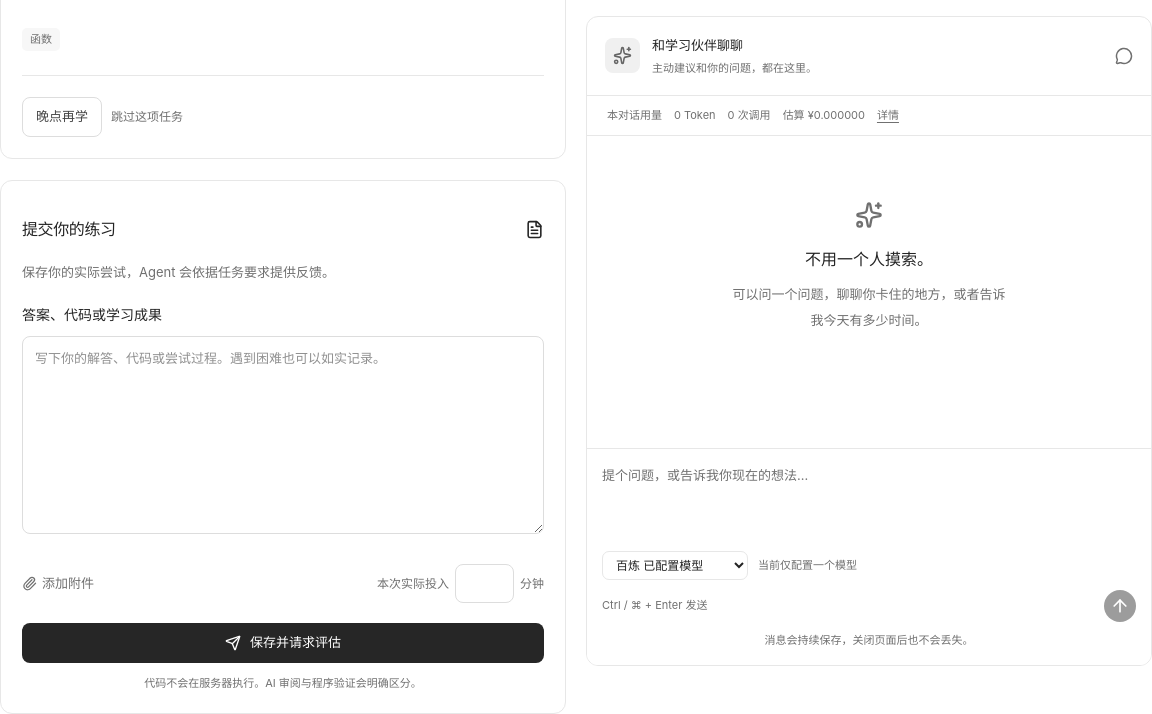
Scenario: learning space › keeps failed work and spent time, then reports saved rather than passed
(page scrolled)
Type "def add(a, b): return a + b" into the text box labelled "答案、代码或学习成果" at x=283, y=435, box top-left (22, 336), bottom-right (544, 534)
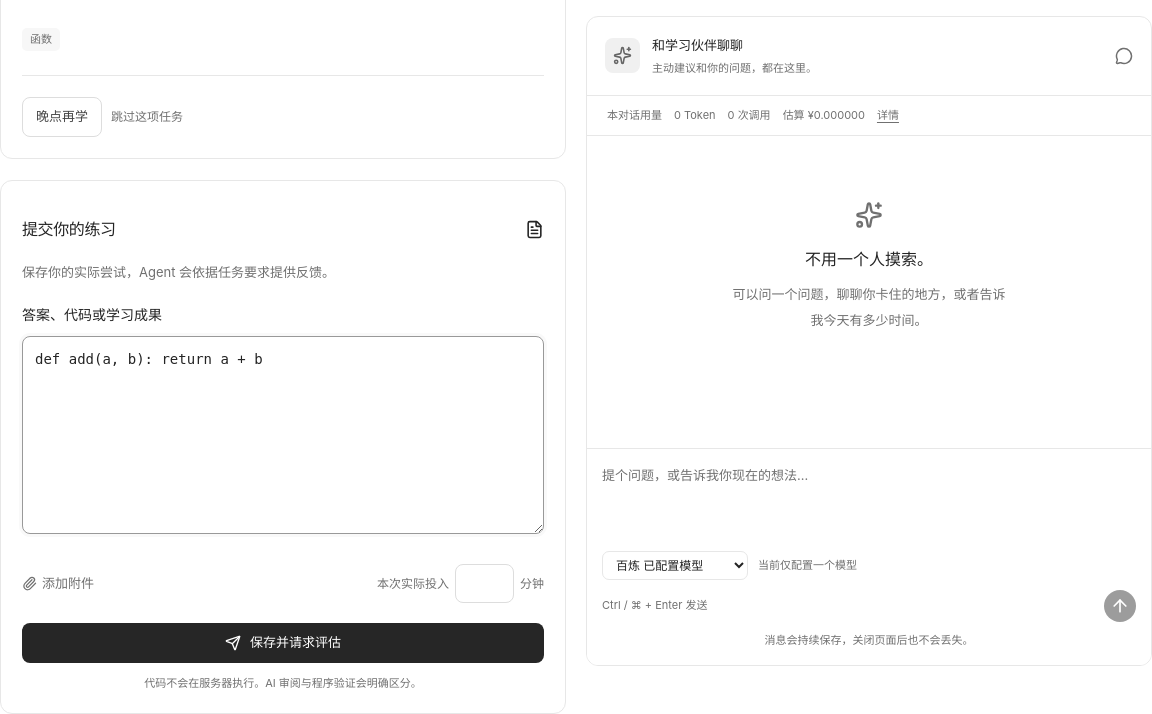
Type "12" into the number field labelled "本次实际投入 分钟" at x=484, y=583, box top-left (455, 564), bottom-right (514, 603)
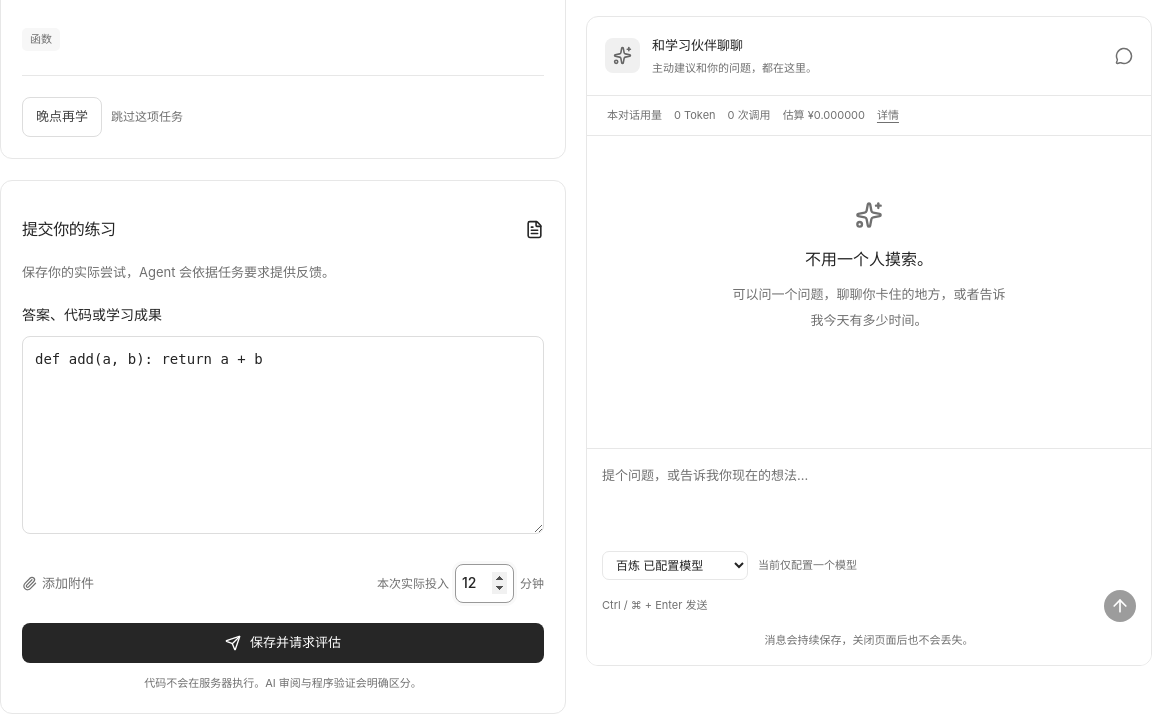
Click the button "保存并请求评估" at x=283, y=643, box top-left (22, 623), bottom-right (544, 663)
(page scrolled)
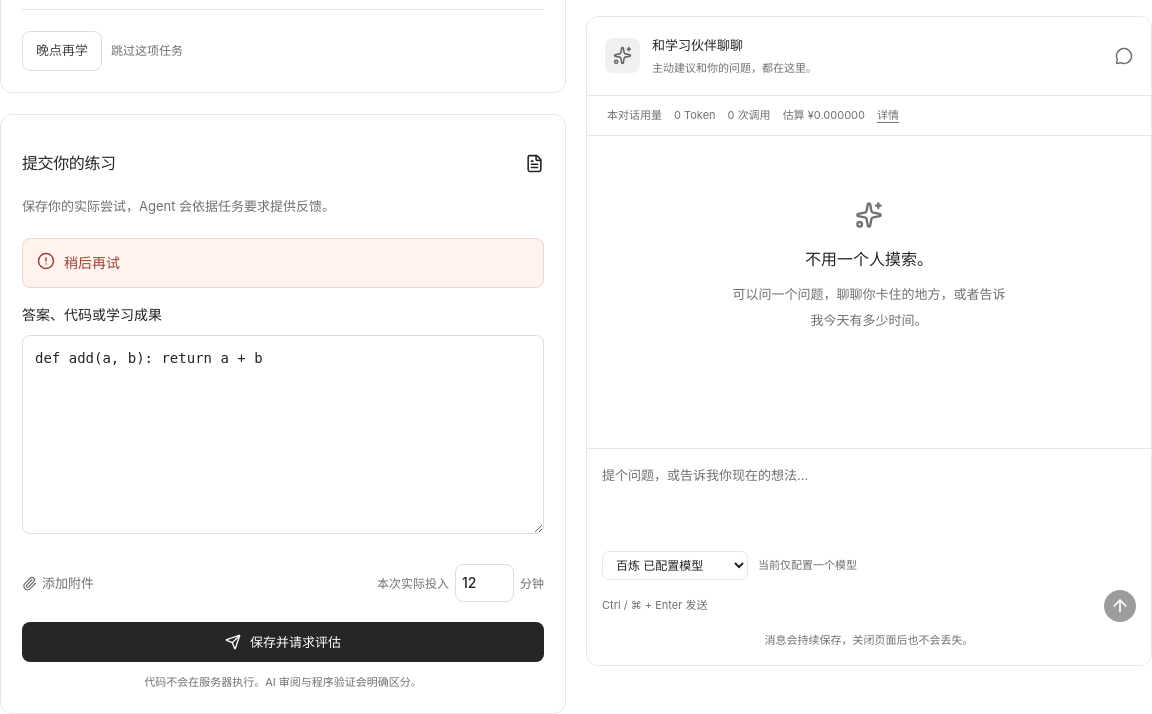
Now the message reads "稍后再试", box top-left (64, 254), bottom-right (120, 271)
Click the button "保存并请求评估" at x=283, y=642, box top-left (22, 622), bottom-right (544, 662)
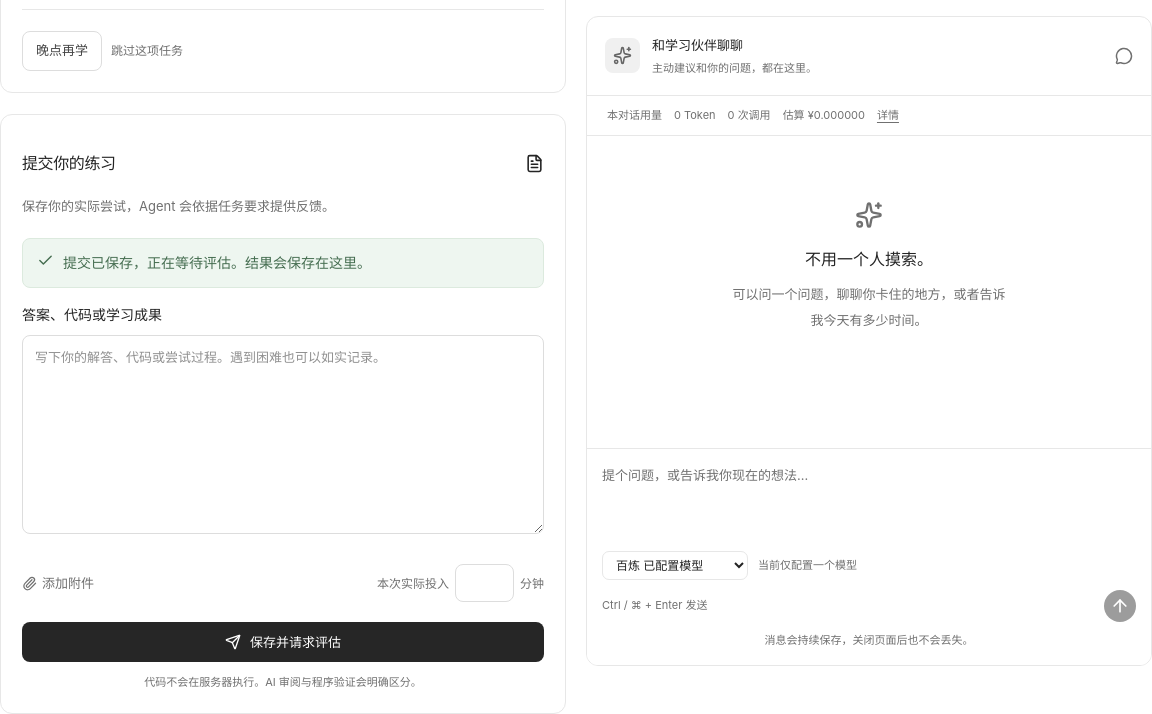
Now the message shows "提交已保存，正在等待评估", box top-left (63, 254), bottom-right (371, 271)
